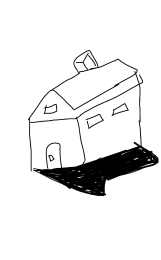chimney: (68, 43, 106, 81)
door: (38, 138, 67, 170)
open_window: (83, 112, 106, 132), (109, 102, 133, 117)
roof: (25, 58, 145, 125)
shadow: (29, 141, 159, 198)
wall: (72, 80, 148, 168)
